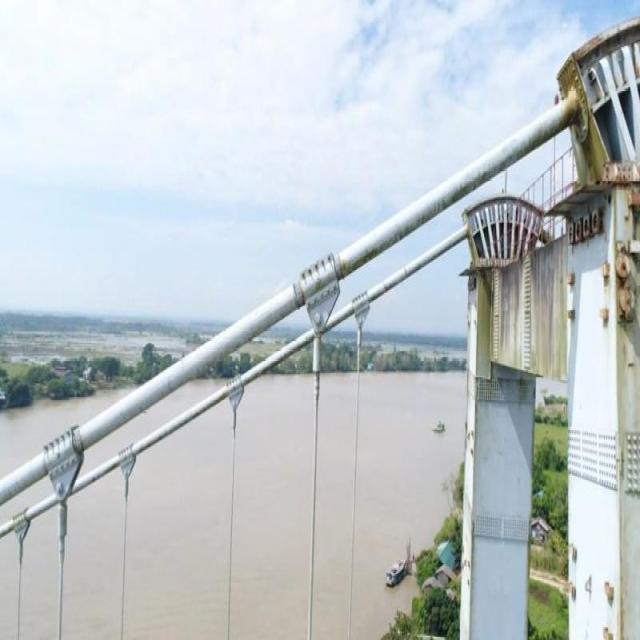Slippage: (294, 280, 306, 308), (72, 428, 84, 454), (334, 251, 344, 281)
